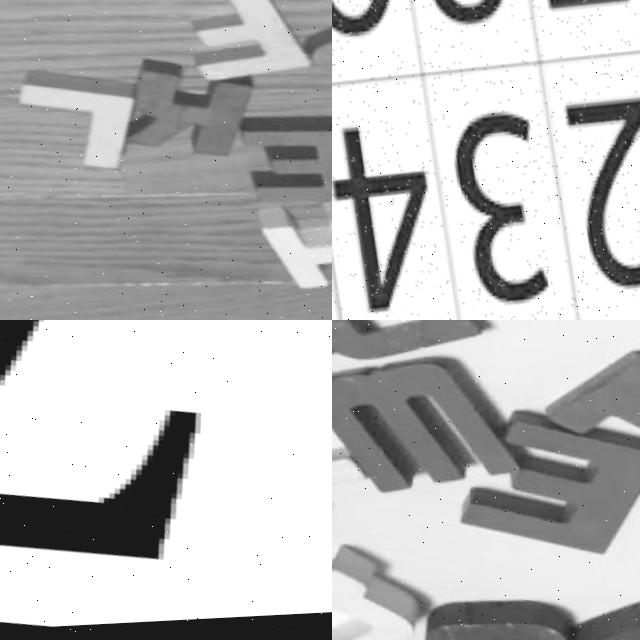2: (521, 77, 640, 312)
3: (410, 96, 571, 320)
4: (332, 107, 458, 320)
7: (0, 320, 257, 590)
D: (332, 320, 470, 376)
E: (434, 409, 640, 573), (218, 107, 332, 218)
F: (175, 0, 327, 105)
H: (236, 188, 332, 314)
I: (526, 330, 640, 517)
J: (281, 12, 332, 129)
K: (100, 51, 257, 169)
L: (0, 64, 131, 174)
Q: (332, 532, 411, 640)
W: (332, 337, 496, 506)
